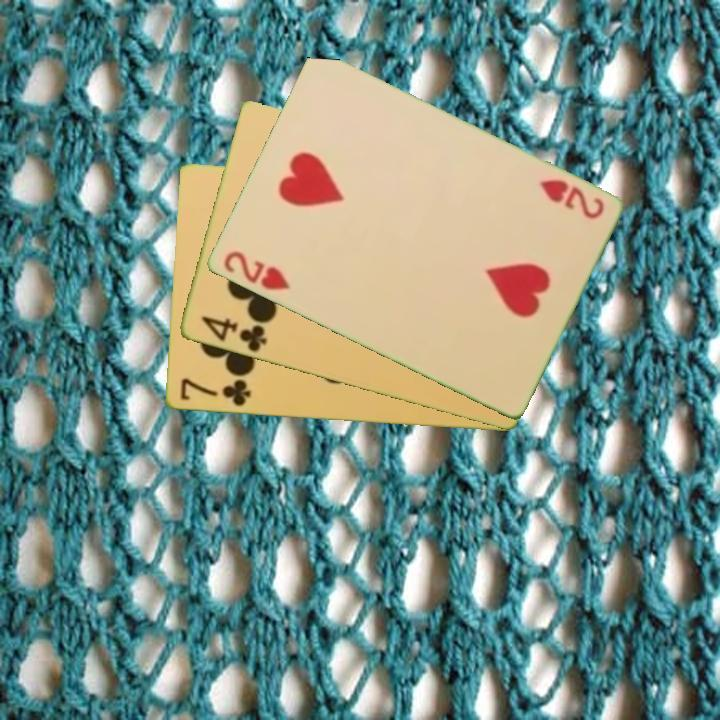2h: (219, 247, 293, 294), (535, 175, 607, 223)
4c: (197, 312, 270, 355)
7c: (176, 375, 254, 410)
